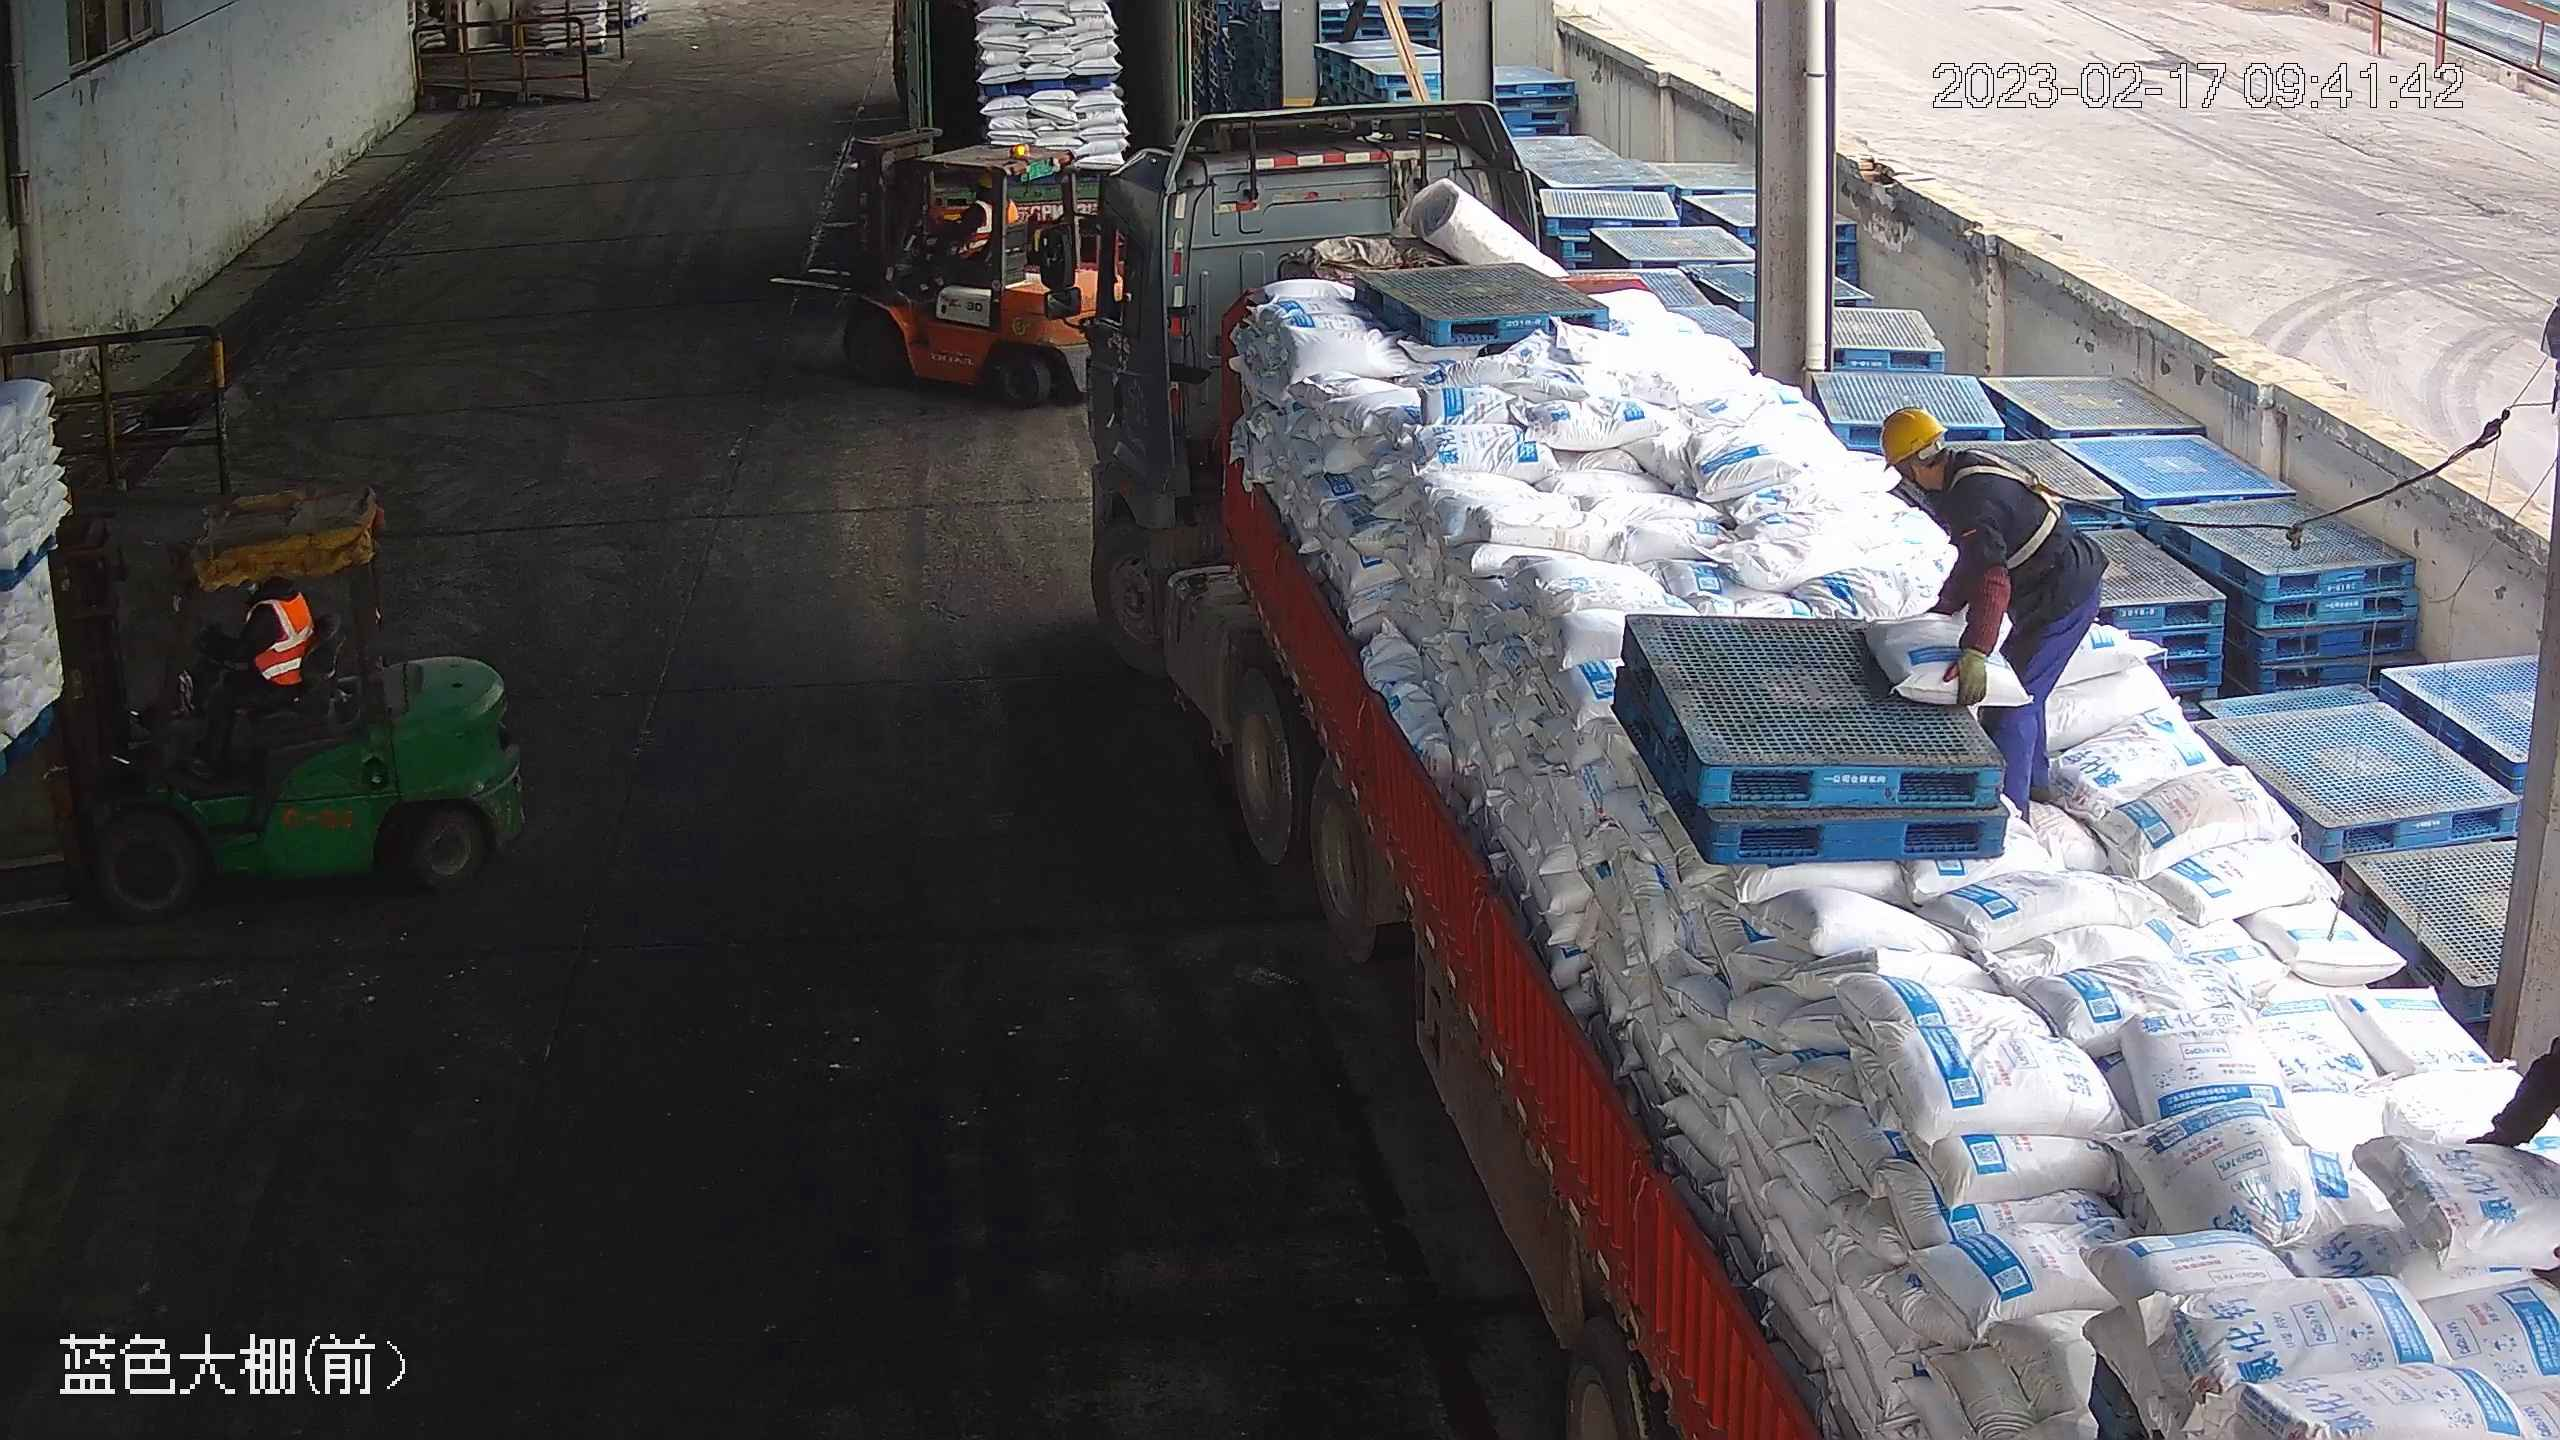belt: (1948, 449, 2071, 561)
head: (1881, 407, 2027, 524)
helmet: (1876, 404, 1947, 465)
people: (1881, 404, 2105, 824), (175, 571, 321, 770), (913, 163, 1014, 289)
truck: (1043, 98, 2556, 1440), (890, 2, 1194, 161)
